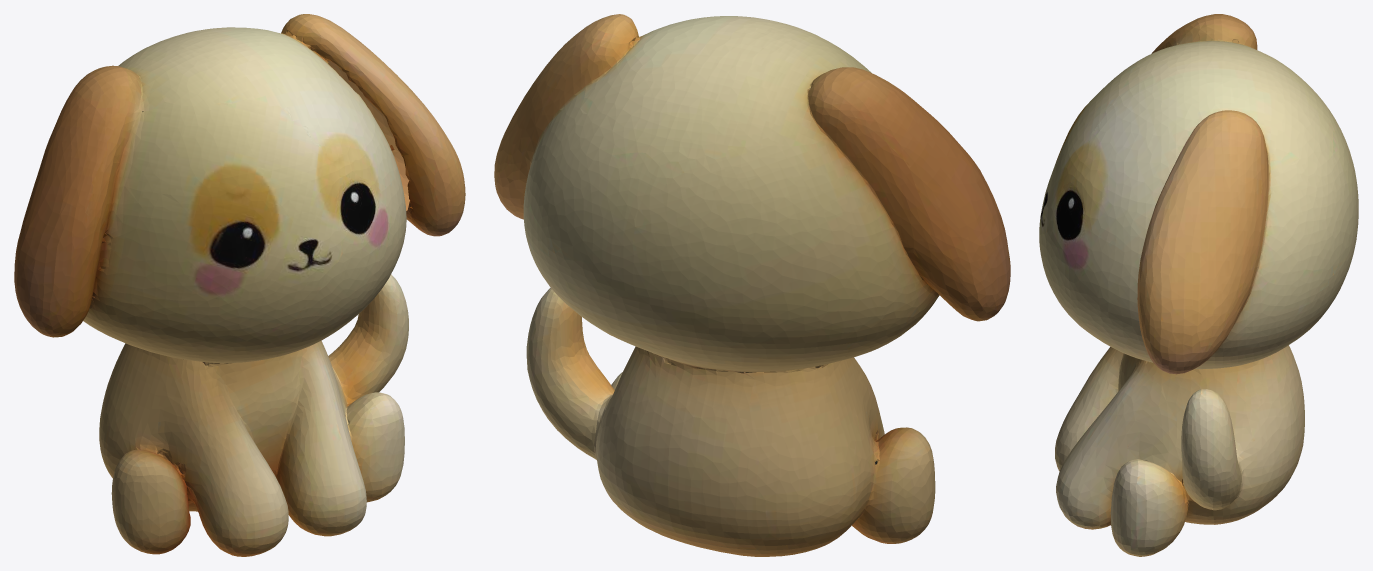
Rendered from dog.glb.
3 renders of one model, left to right at view 1: azimuth 30°, elevation 25°; view 2: azimuth 150°, elevation 25°; view 3: azimuth 270°, elevation 25°, orthographic. The views are drawn at different scales.
Visible parts, largest first — view 1: geometry_0; view 2: geometry_0; view 3: geometry_0.
Boxes of the visible parts, x1=… form: geometry_0: x1=14, y1=14, x2=465, y2=556; geometry_0: x1=494, y1=14, x2=1010, y2=556; geometry_0: x1=1039, y1=14, x2=1358, y2=556.
Bounding box in the file's own units: 0.9992 × 0.9928 × 0.651.
1 material, 1 textured.
